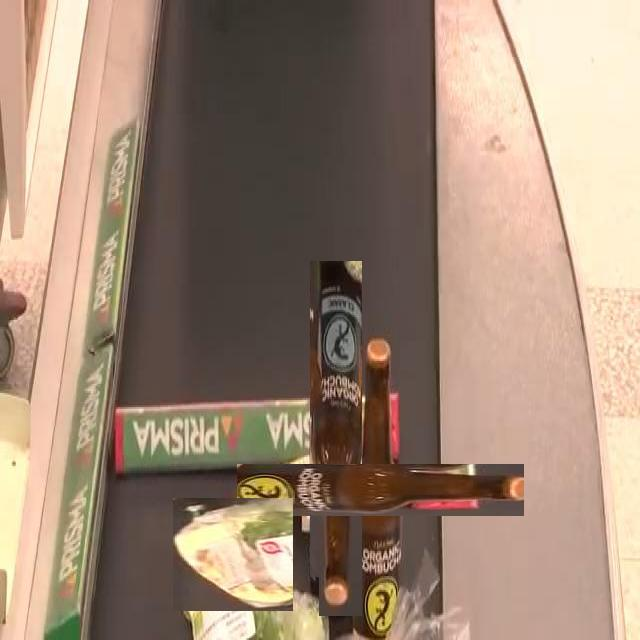beverage: (295, 405, 465, 575), (309, 260, 362, 616)
food-box: (175, 495, 292, 613), (185, 577, 319, 635)
